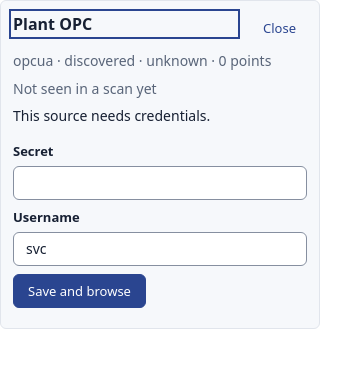
Test: SourcePanel › leaves config untouched when the username is not changed
The image size is (337, 374).
Type "pw" into the password field labelled "Secret" at [160, 183], box [13,166,307,200]
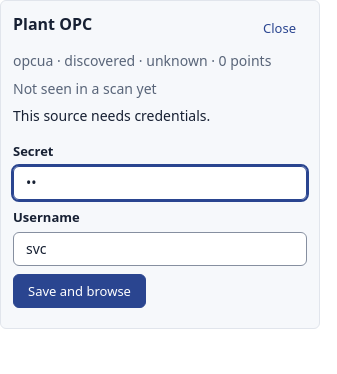
Click the button "Save and browse" at [79, 291], box [13,274,146,308]
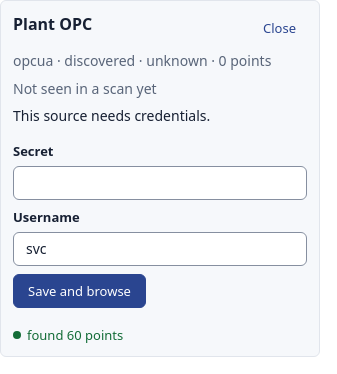
Result: the text "found 60 points" is shown at [13,326,123,344]
